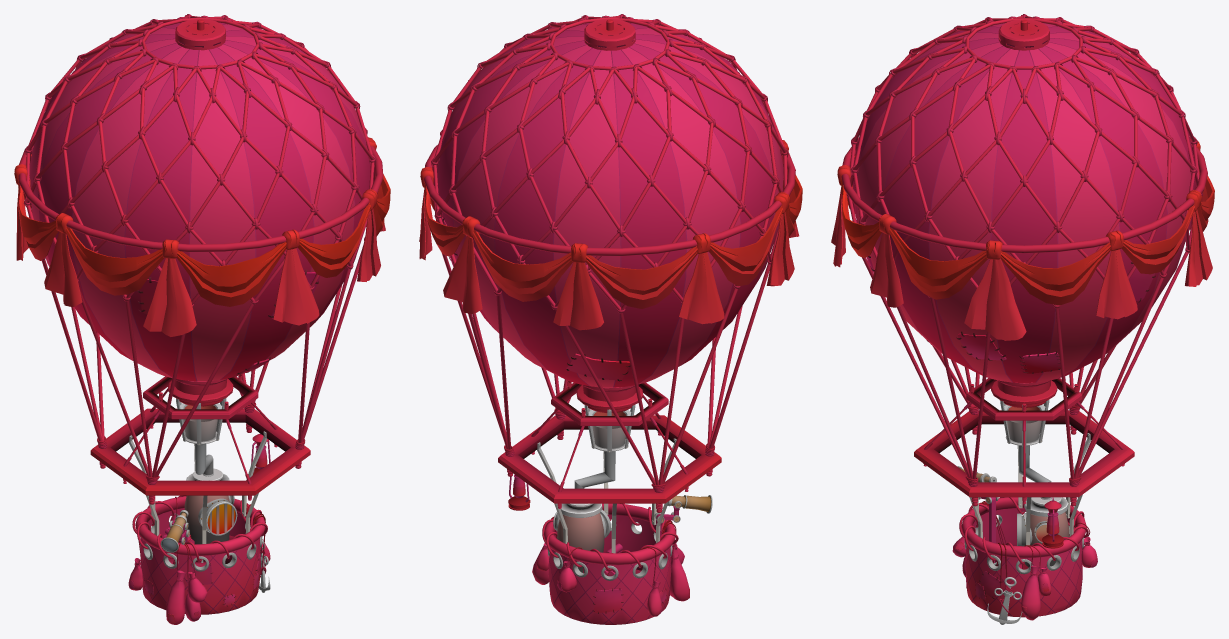
Rendered from hot_air_balloon-ping.glb.
3 renders of one model, left to right at view 1: azimuth 30°, elevation 25°; view 2: azimuth 150°, elevation 25°; view 3: azimuth 270°, elevation 25°, orthographic.
Parts seen in each view (by area): view 1: BezierCurve.003; view 2: BezierCurve.003; view 3: BezierCurve.003.
Boxes of the visible parts, box(x1,y1,x2,y2) form: BezierCurve.003: box(14, 14, 390, 624); BezierCurve.003: box(419, 14, 802, 624); BezierCurve.003: box(831, 14, 1214, 624).
Size of the model in its own units: 10.02 by 16.79 by 10.09.
